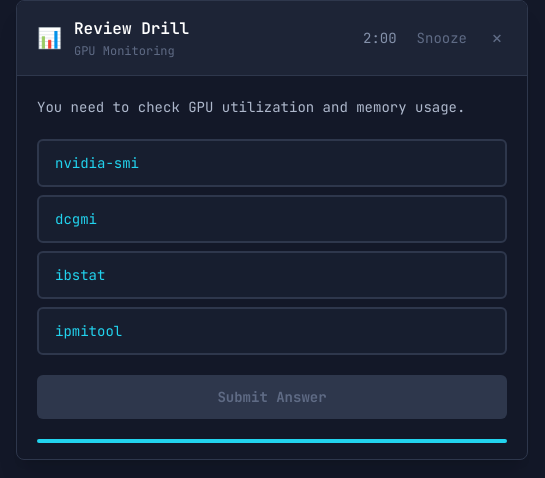
Test case: SpacedReviewDrill › shows incorrect feedback when answer is wrong
The image size is (545, 478).
Click the button "ipmitool".
click(89, 331)  # box [37,307,507,355]
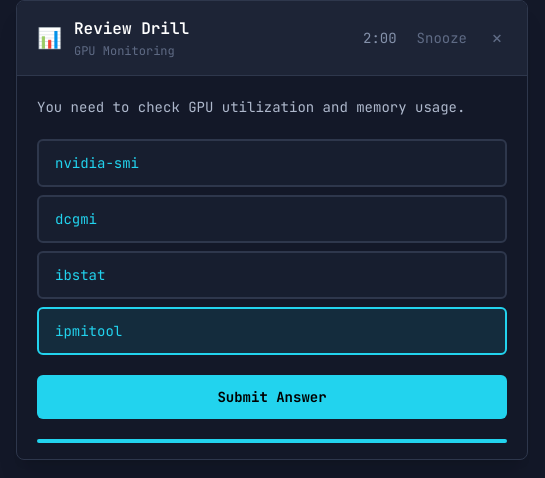
Click the button "Submit Answer".
click(272, 397)  # box [37,375,507,419]
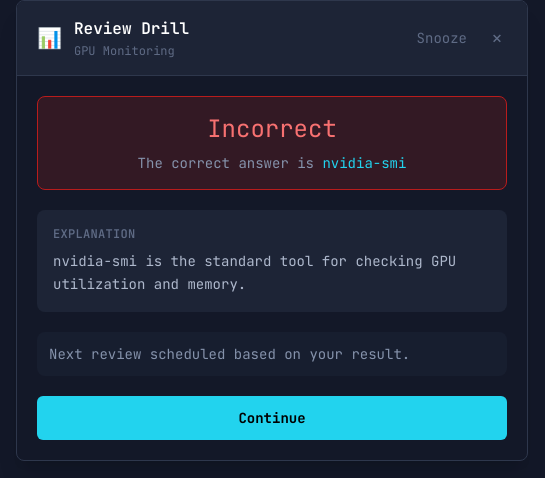
Check: the text "Incorrect" is shown, box [207,113,337,144]
Check: the text "The correct answer is nvidia-smi" is shown, box [138,154,406,172]
